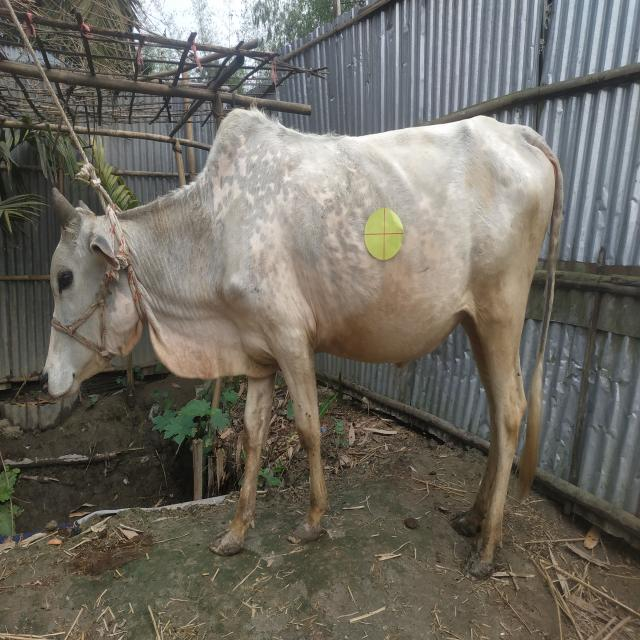badan_sapi: (218, 131, 548, 366)
sapi: (34, 76, 573, 604)
